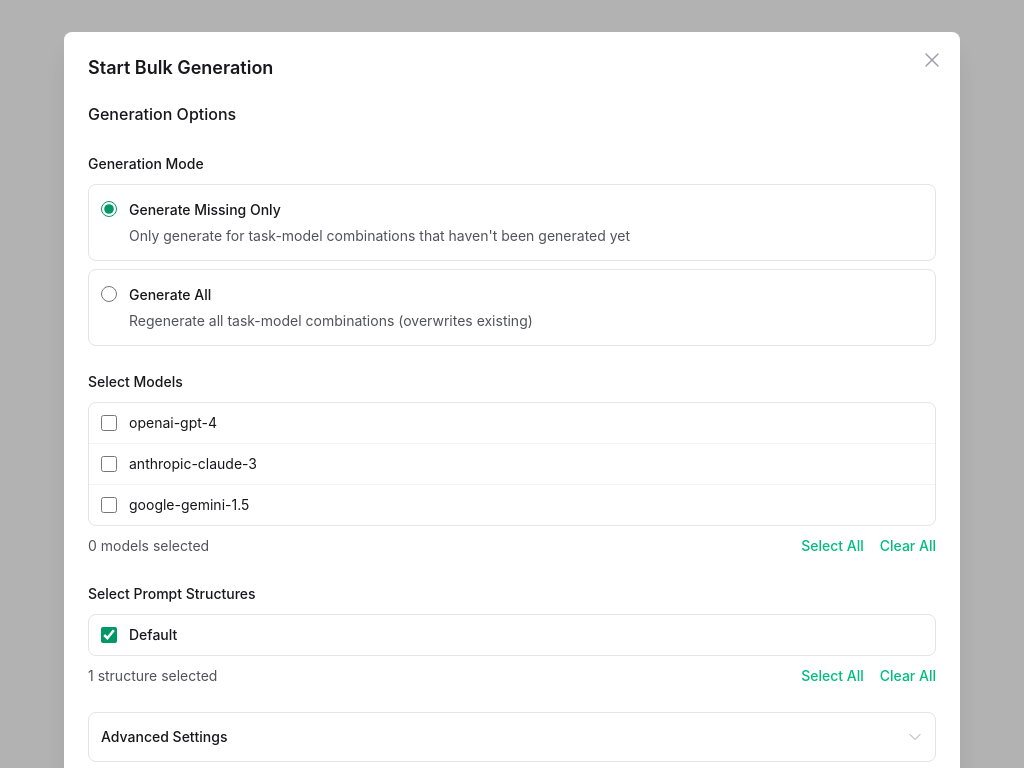
it: GenerationControlModal › handles clear all functionality
First select all
Click the button "Select All" in the row of "0 models selected". click: point(832, 546)
box: [801, 537, 864, 555]
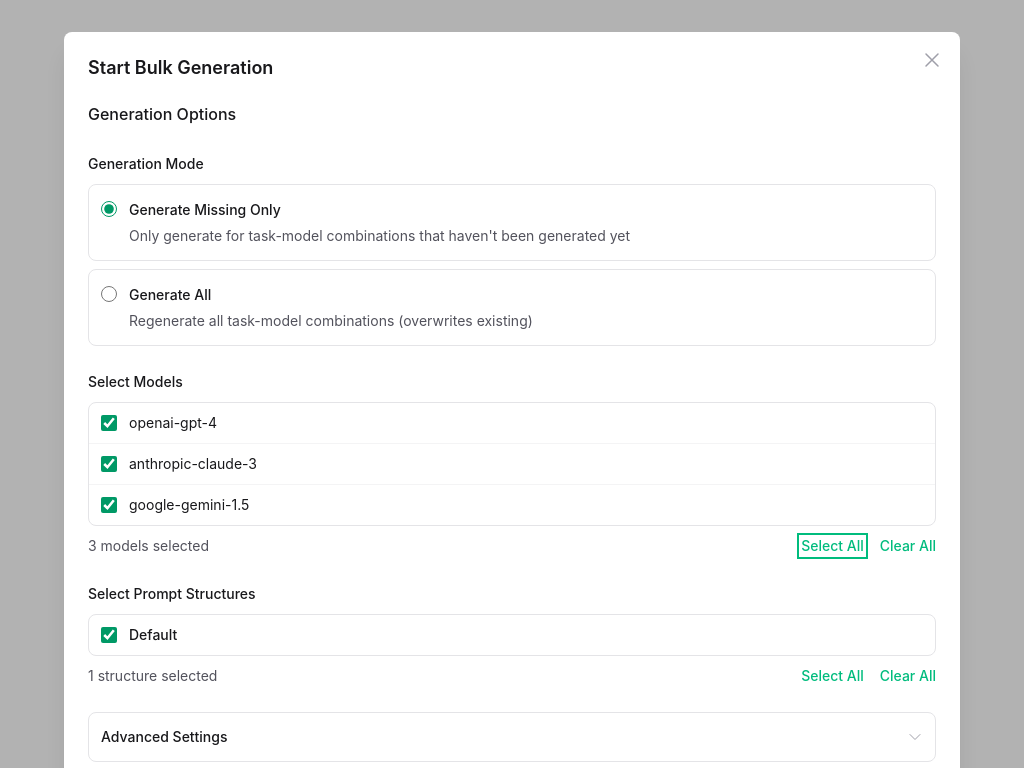
Then clear all
Click the button "Clear All" in the row of "3 models selected". click: point(908, 546)
box: [880, 537, 936, 555]
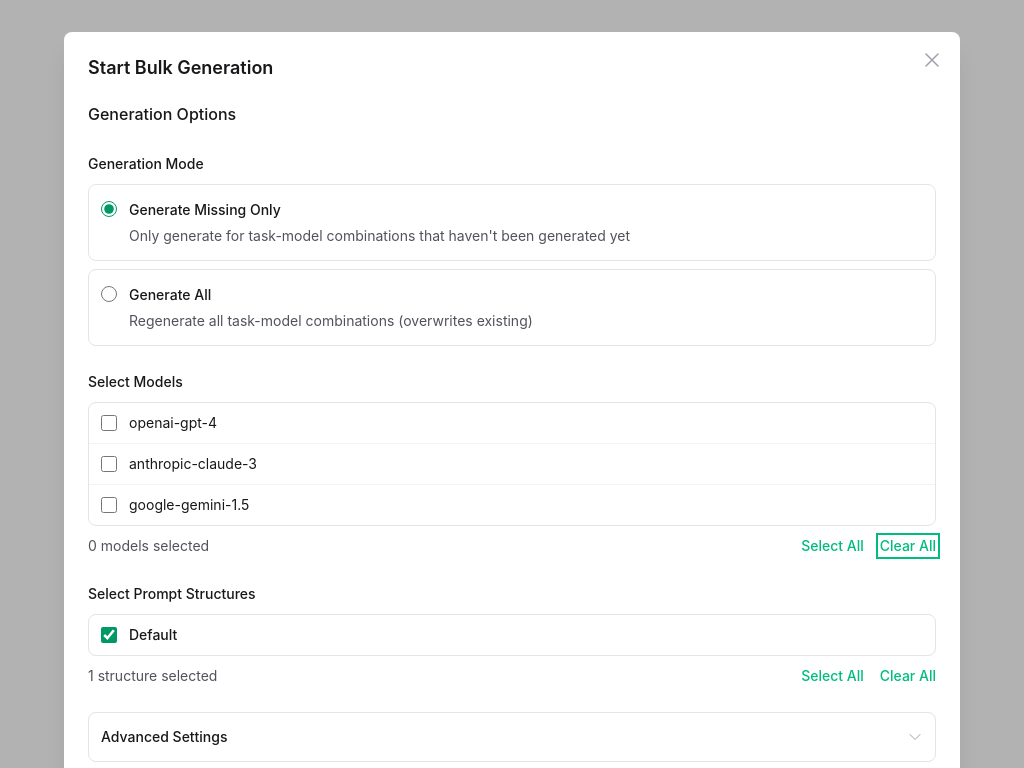
Expected: the checkbox labelled "openai-gpt-4" is not checked, [101, 415, 117, 431]
Expected: the checkbox labelled "anthropic-claude-3" is not checked, [101, 456, 117, 472]
Expected: the checkbox labelled "google-gemini-1.5" is not checked, [101, 497, 117, 513]
